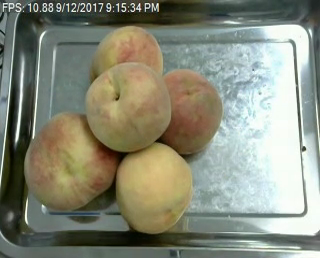Peach: (24, 110, 116, 211), (85, 60, 172, 151), (115, 143, 191, 233), (158, 67, 224, 155), (92, 26, 162, 84)
